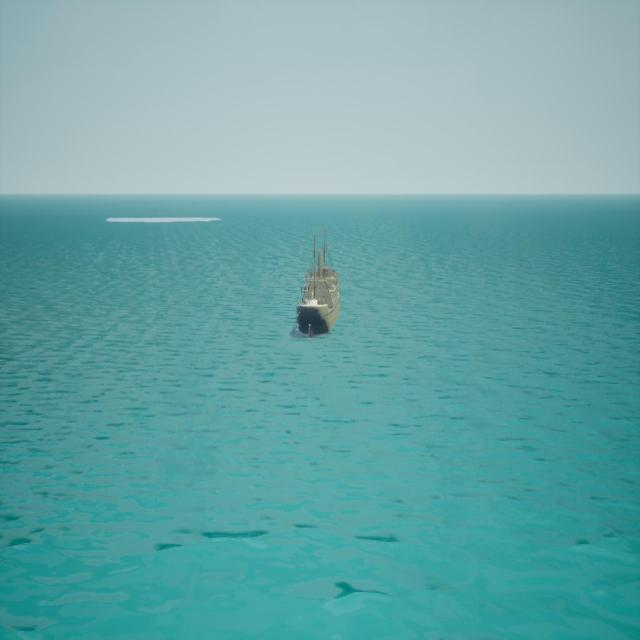fishing ship: (294, 230, 342, 338)
